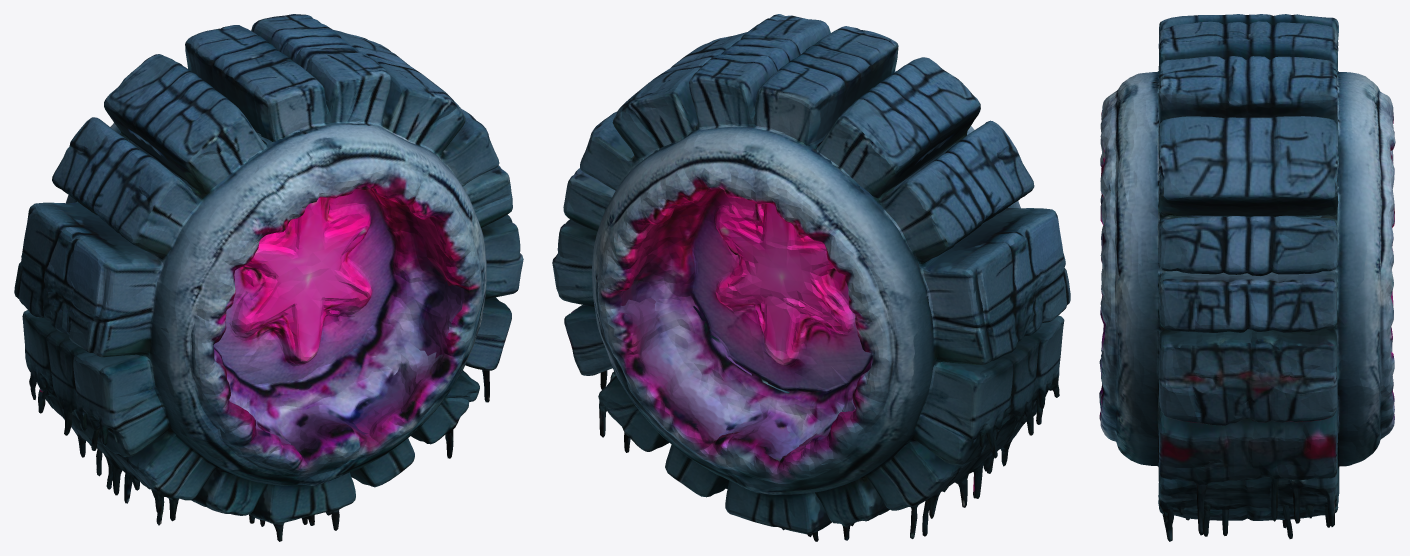
File: world-root-basin-generated-2026-04-19T05-21-01-405Z.glb
3 views of the same model, side by side, from view 1: azimuth 30°, elevation 25°; view 2: azimuth 150°, elevation 25°; view 3: azimuth 270°, elevation 25° (orthographic). The views are drawn at different scales.
Parts seen in each view (by area): view 1: temp_mesh.ply; view 2: temp_mesh.ply; view 3: temp_mesh.ply.
Part boxes in pixels (bbox=[...]): temp_mesh.ply: bbox=[14, 14, 523, 541]; temp_mesh.ply: bbox=[552, 14, 1070, 541]; temp_mesh.ply: bbox=[1099, 14, 1395, 541].
Size of the model in its own units: 1.97 by 1.97 by 1.12.
Materials: 1 (1 with a texture image).
